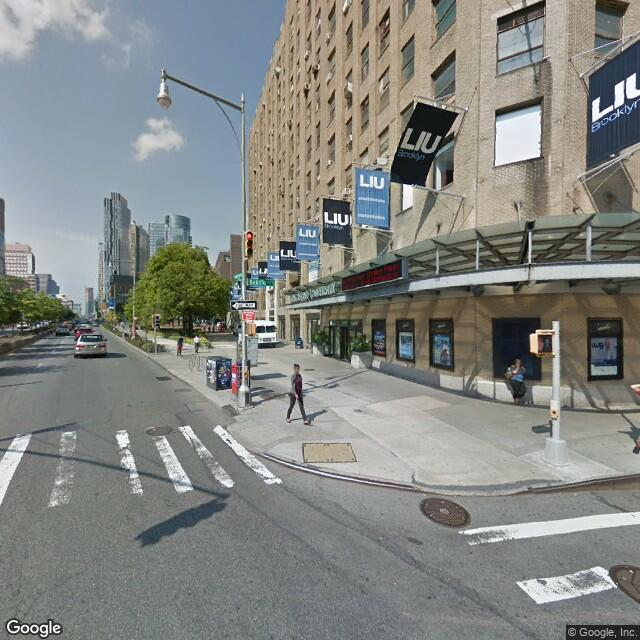litter: (572, 486, 579, 499)
